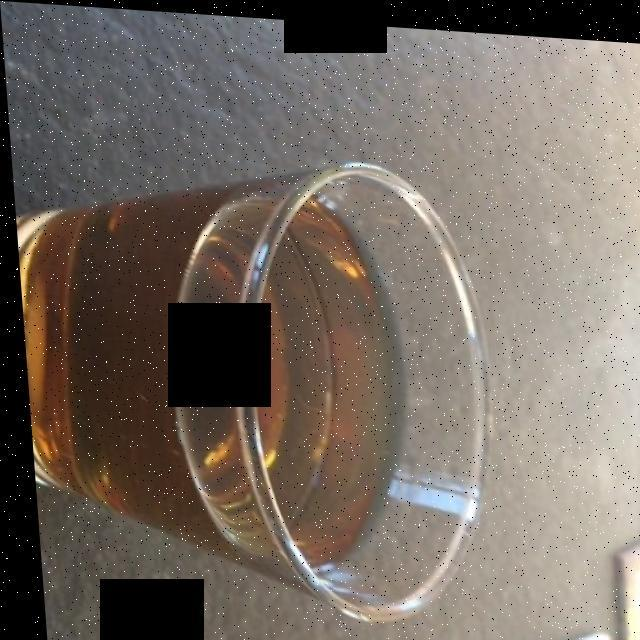tea: (44, 179, 388, 571)
